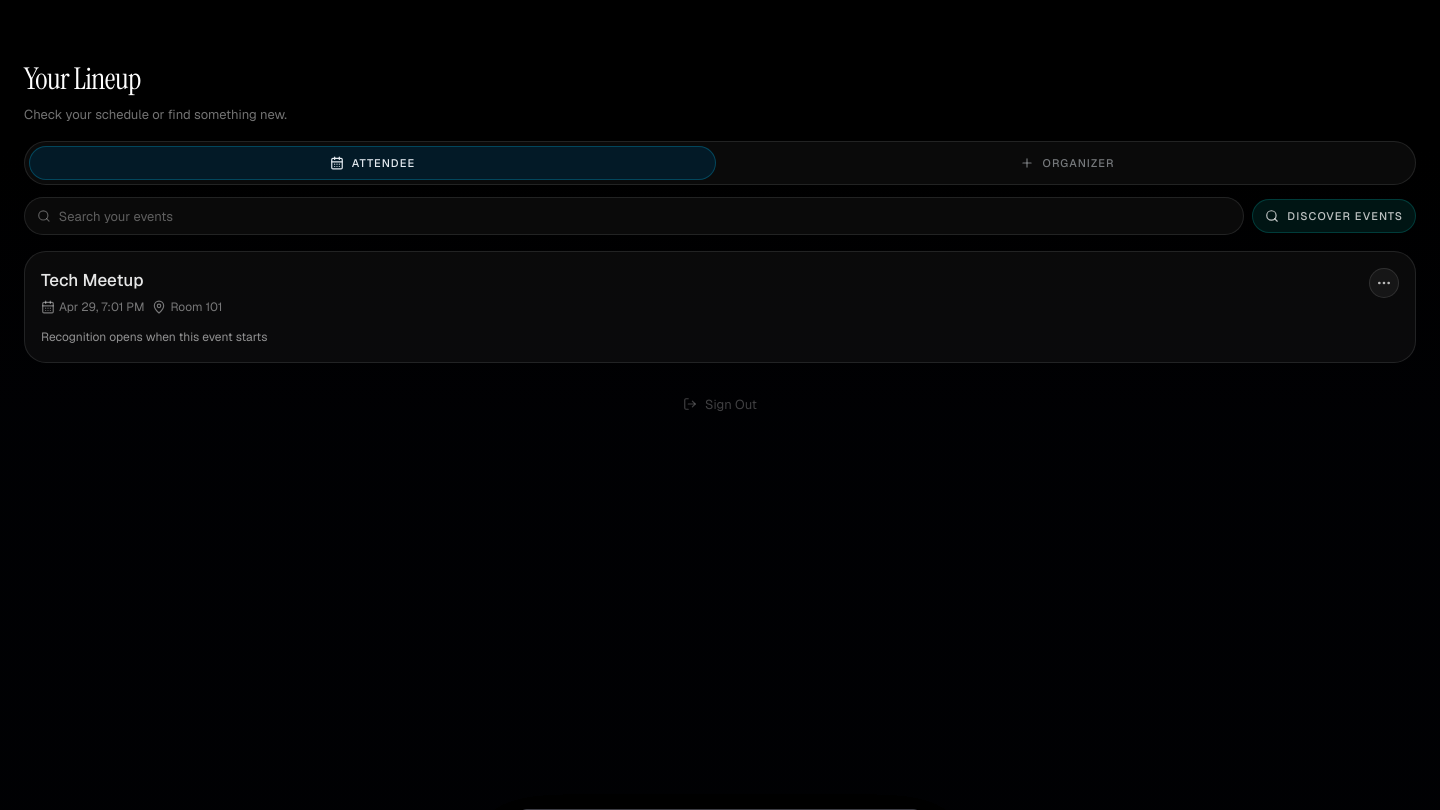
Test case: DashboardPage › switches to organizer tab and shows organized events
Click the button "Organizer".
click(1068, 163)  # box [724,146,1411,180]
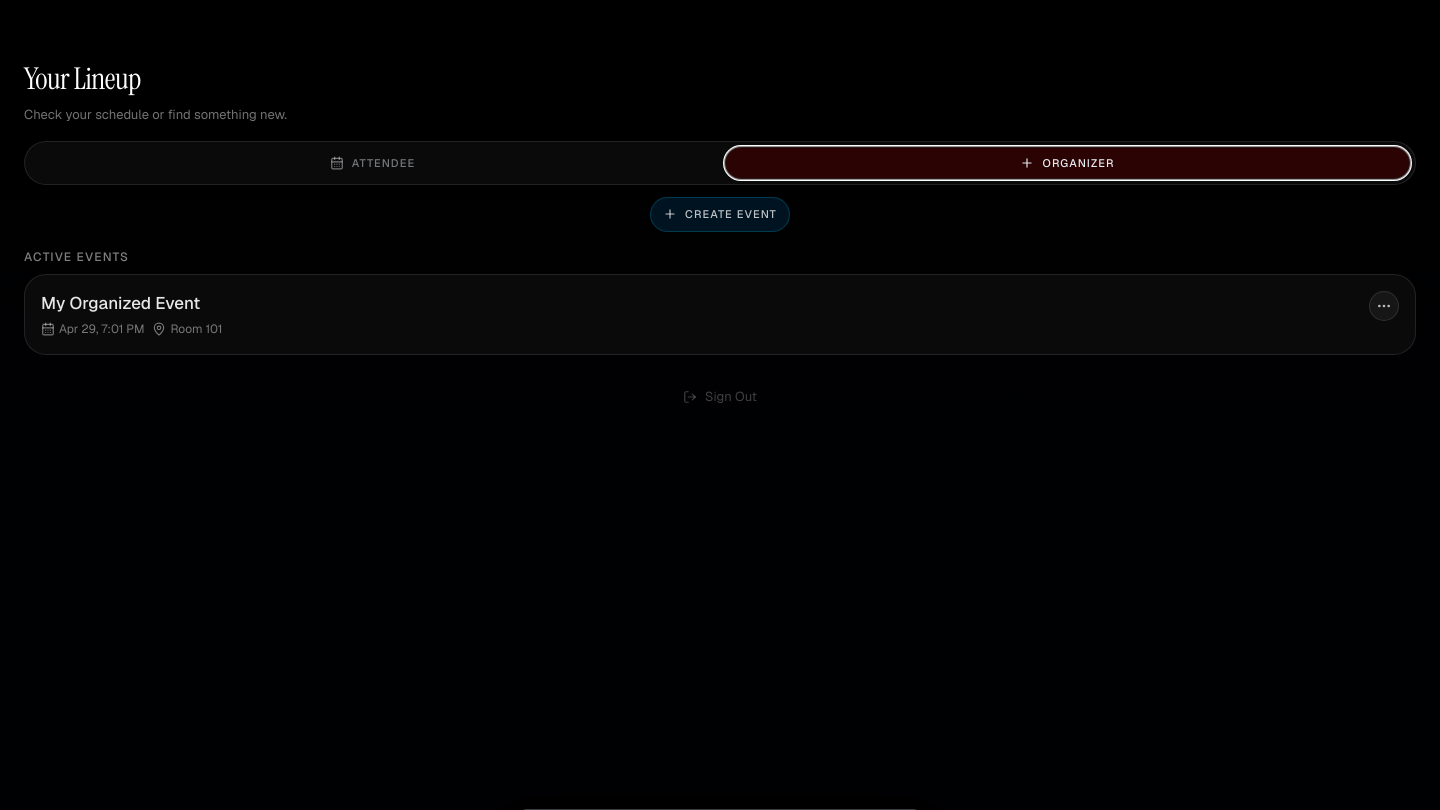
Now the heading "My Organized Event" is shown, box [41,292,200,314]
